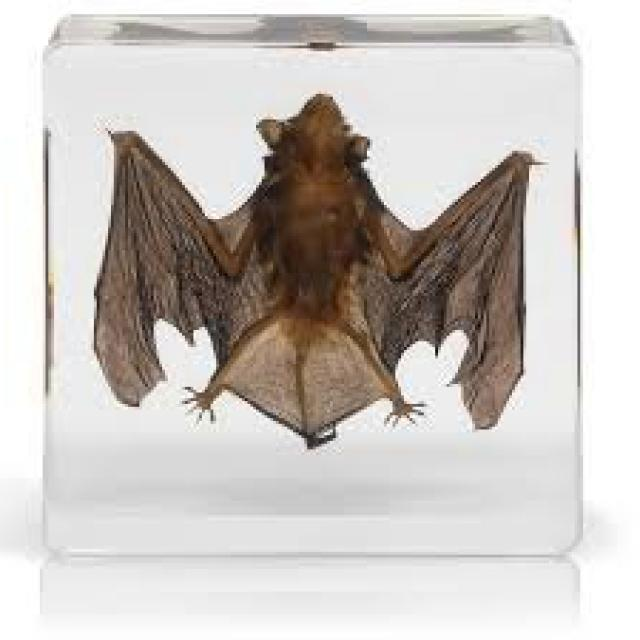bat: (97, 94, 540, 447)
